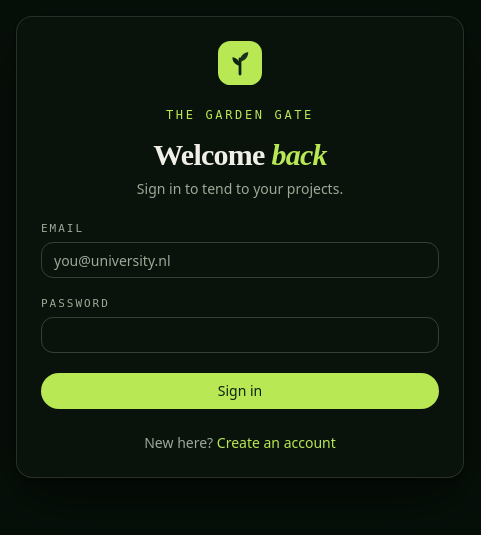
Scenario: Login page › shows the error message when login fails
The width and height of the screenshot is (481, 535).
Type "a@b.com" into the field labelled "Email" at {"x": 240, "y": 260}, box [41,242,439,278]
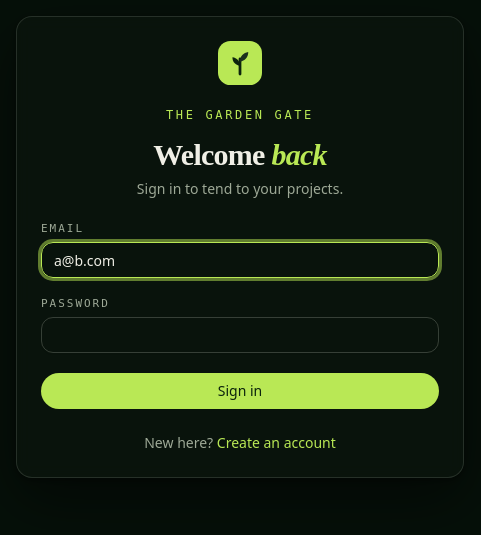
Type "wrong-pass" into the password field labelled "Password" at {"x": 240, "y": 335}, box [41,317,439,353]
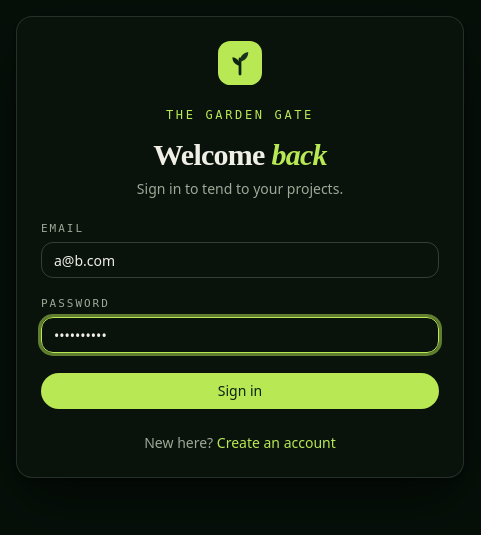
Click the button "Sign in" at {"x": 240, "y": 391}, box [41,373,439,409]
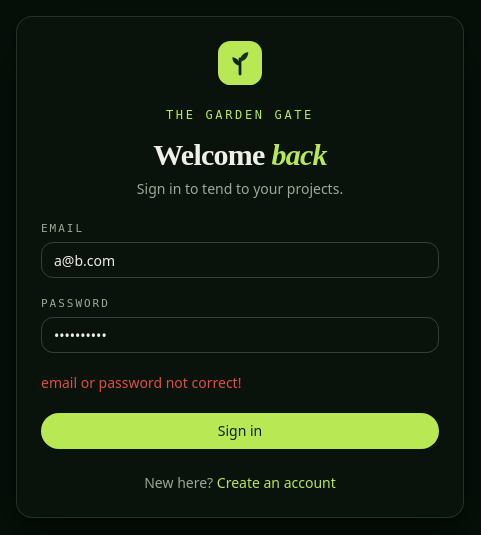
expect the message reads "email or password not correct!": met, box [41,373,241,392]
